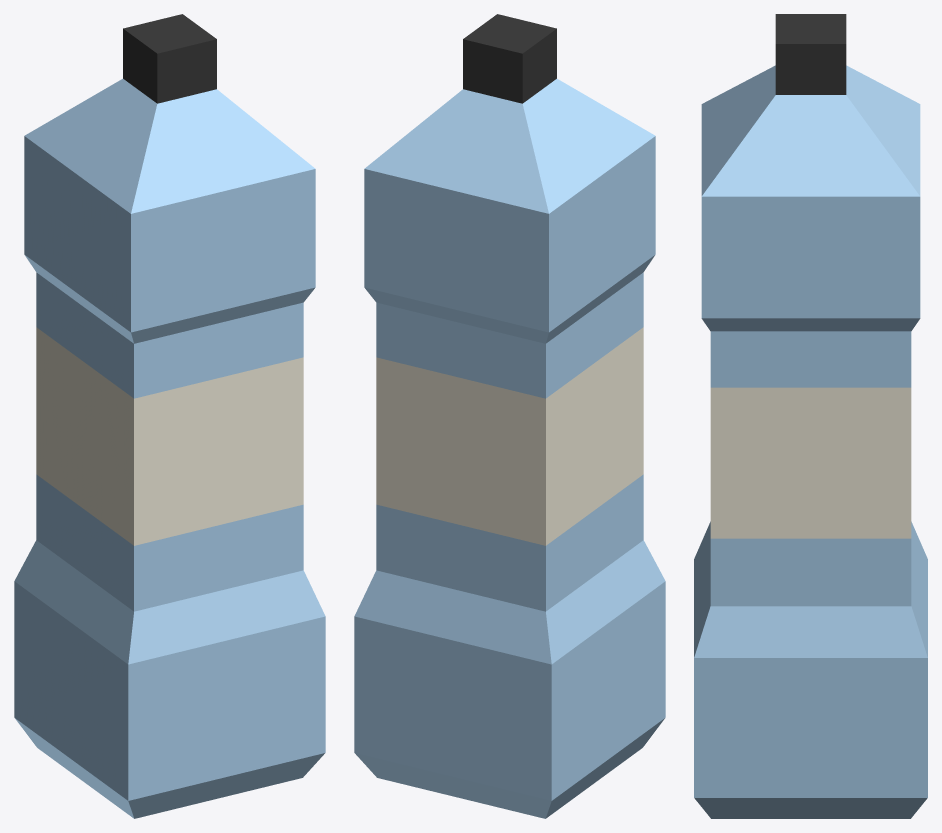
The model's file is Bottle_02.fbx.
The picture shows the model from 3 angles, left to right: view 1: azimuth 30°, elevation 25°; view 2: azimuth 150°, elevation 25°; view 3: azimuth 270°, elevation 25°; orthographic projection. The views are drawn at different scales.
Parts seen in each view (by area): view 1: Bottle_02; view 2: Bottle_02; view 3: Bottle_02.
Boxes of the visible parts, left/top/right/bottom form: Bottle_02: left=14, top=14, right=325, bottom=818; Bottle_02: left=354, top=14, right=665, bottom=818; Bottle_02: left=694, top=14, right=927, bottom=818.
Size of the model in its own units: 19.41 by 68.52 by 19.41.
